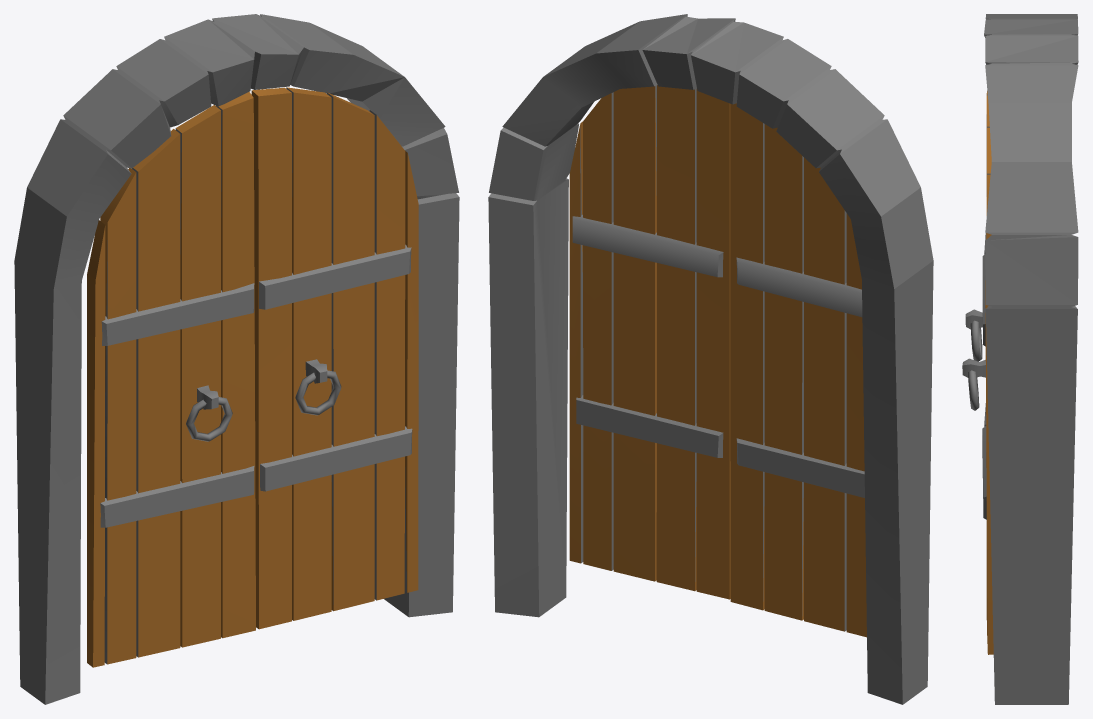
The model's file is Castle-gate.fbx.
The picture shows the model from 3 angles, left to right: view 1: azimuth 30°, elevation 25°; view 2: azimuth 150°, elevation 25°; view 3: azimuth 270°, elevation 25°; orthographic projection. The views are drawn at different scales.
Parts seen in each view (by area): view 1: Castle-gate_Door_R, Castle-gate, Castle-gate_Door_L; view 2: Castle-gate, Castle-gate_Door_L, Castle-gate_Door_R; view 3: Castle-gate, Castle-gate_Door_L, Castle-gate_Door_R.
Part boxes in pixels (bbox=[...]): Castle-gate_Door_R: bbox=[87, 91, 255, 667]; Castle-gate: bbox=[14, 14, 459, 704]; Castle-gate_Door_L: bbox=[251, 87, 418, 629]; Castle-gate: bbox=[488, 14, 933, 704]; Castle-gate_Door_L: bbox=[569, 85, 730, 599]; Castle-gate_Door_R: bbox=[730, 103, 866, 637]; Castle-gate: bbox=[984, 14, 1078, 704]; Castle-gate_Door_L: bbox=[962, 91, 993, 654]; Castle-gate_Door_R: bbox=[965, 233, 986, 426].
Size of the model in its own units: 2.76 by 3.99 by 0.7262.
